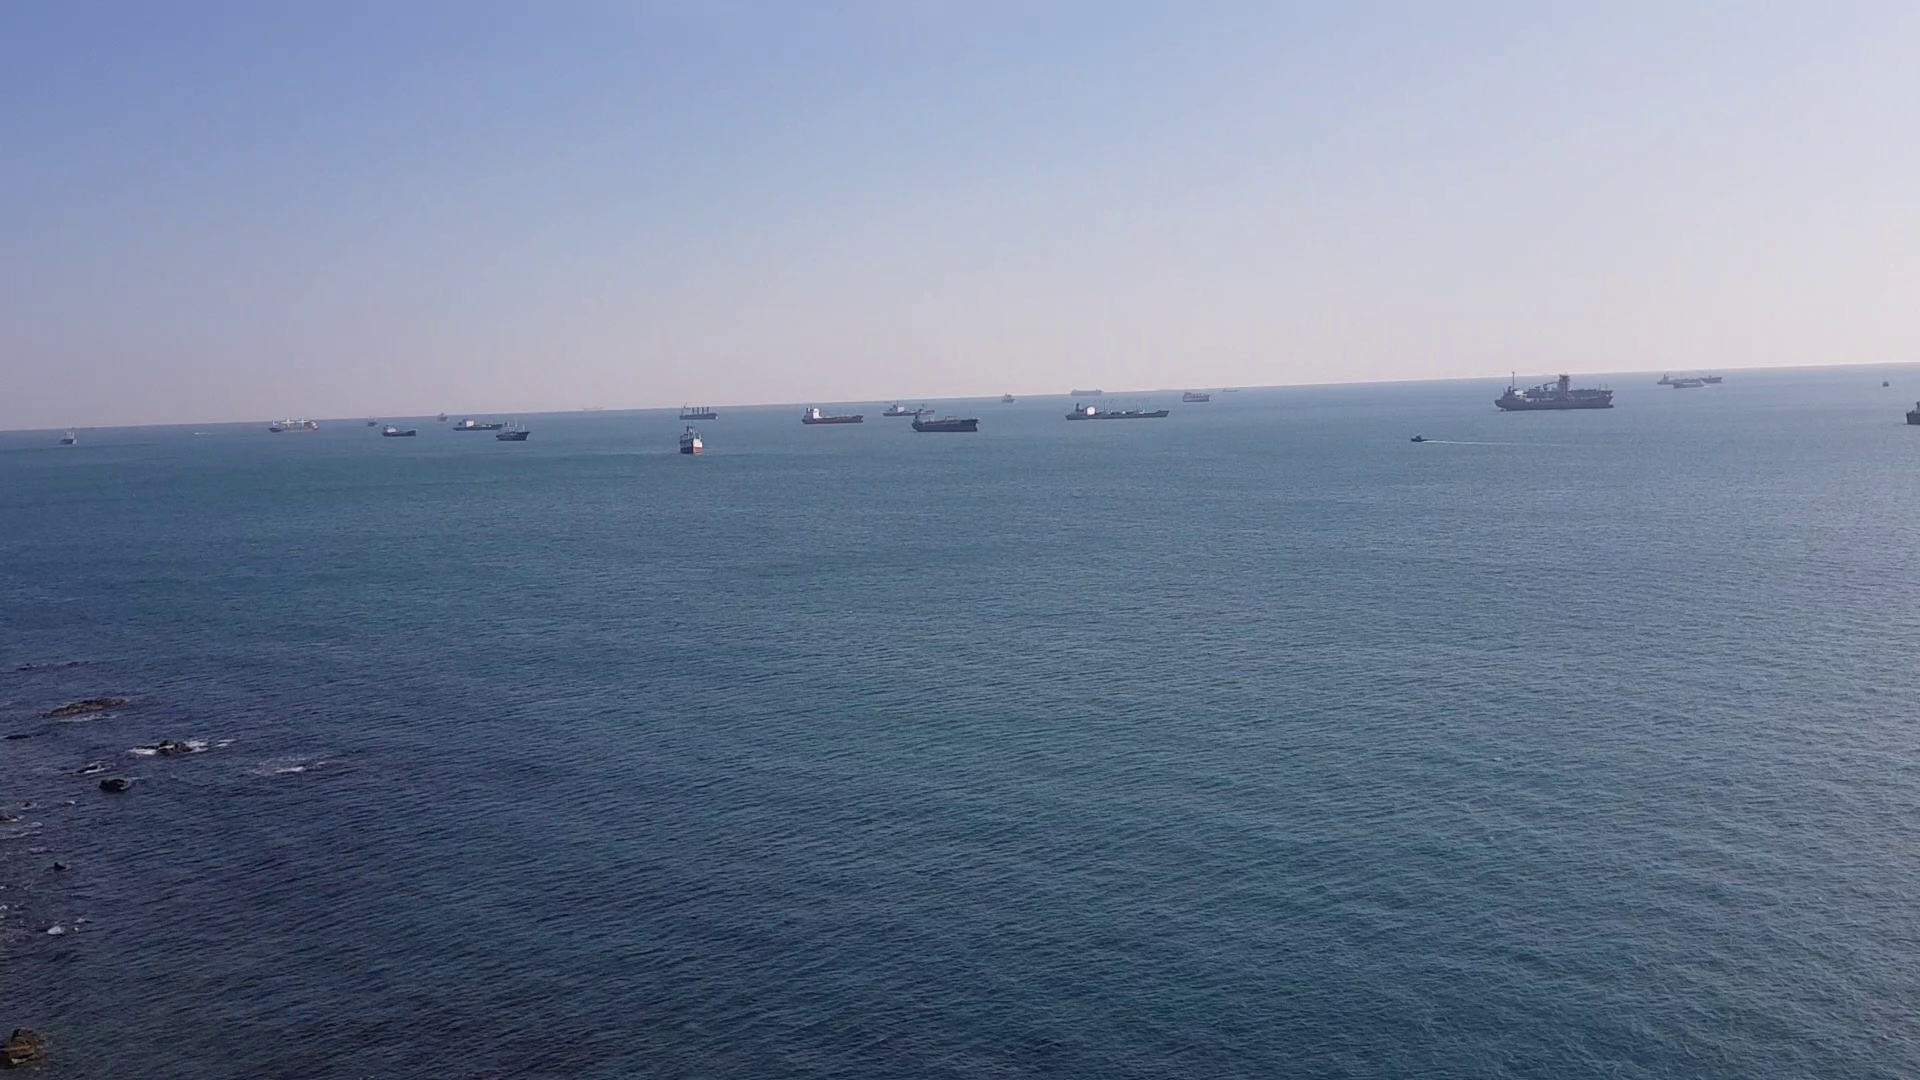Bulk_Carrier: (1487, 382, 1617, 411), (1059, 402, 1166, 419), (264, 417, 313, 430)
